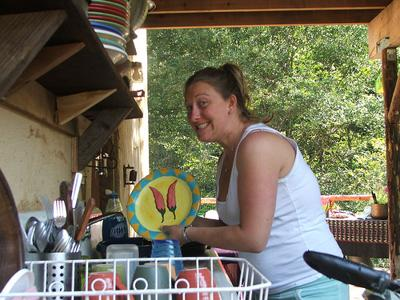person: (162, 63, 352, 300)
